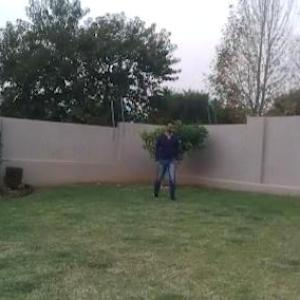follow: (153, 115, 180, 204)
